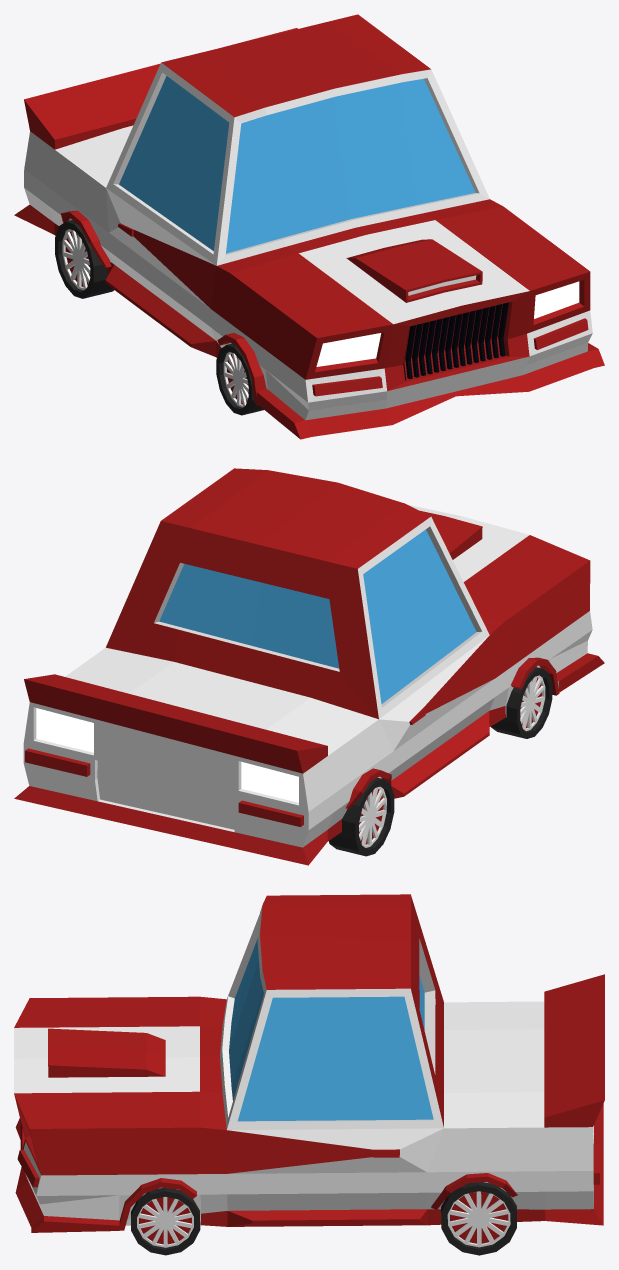
The model's file is low-poly-car.FBX.
3 views of the same model, one above another, from view 1: azimuth 30°, elevation 25°; view 2: azimuth 150°, elevation 25°; view 3: azimuth 270°, elevation 25° (orthographic).
Parts seen in each view (by area): view 1: body, lattice_1, wheel_lr, headlight, wheel_fr, front_fender, rear_fender; view 2: body, backlight, wheel_lr, wheel_fr, front_fender, rear_fender; view 3: body, wheel_rl, wheel_fl, front_fender, rear_fender.
Boxes of the visible parts, <box> form: body: <box>14,14,604,439</box>; lattice_1: <box>403,302,508,380</box>; wheel_lr: <box>55,220,114,298</box>; headlight: <box>316,281,579,366</box>; wheel_fr: <box>216,343,263,415</box>; front_fender: <box>217,333,266,405</box>; rear_fender: <box>61,210,111,267</box>; body: <box>14,468,604,865</box>; backlight: <box>36,708,298,802</box>; wheel_lr: <box>329,777,394,856</box>; wheel_fr: <box>491,667,552,738</box>; front_fender: <box>511,657,559,695</box>; rear_fender: <box>345,768,391,808</box>; body: <box>14,894,604,1232</box>; wheel_rl: <box>441,1182,516,1255</box>; wheel_fl: <box>131,1188,200,1255</box>; front_fender: <box>119,1178,196,1230</box>; rear_fender: <box>431,1173,517,1209</box>.
Bounding box in the file's own units: 138 × 110 × 236.
